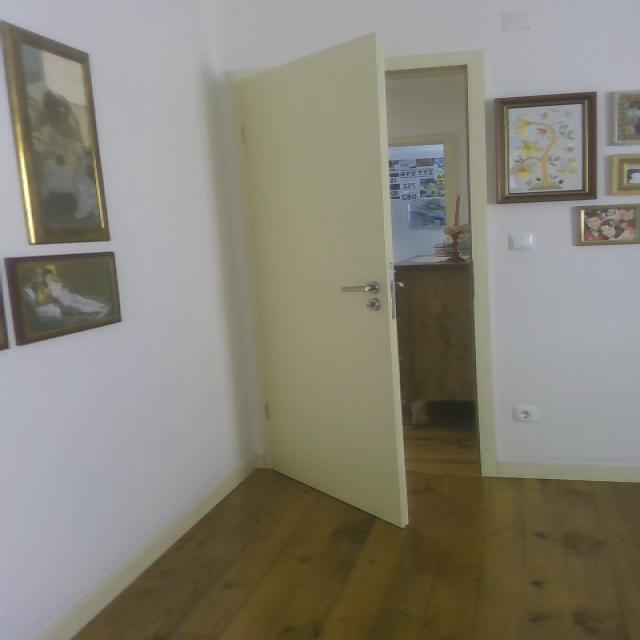door: (214, 25, 508, 541)
